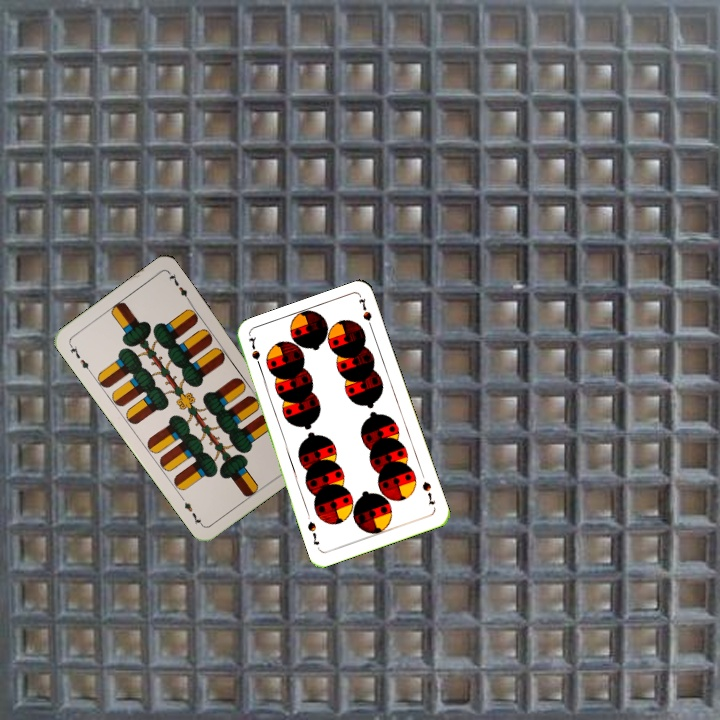E7: (65, 340, 94, 375)
S7: (244, 333, 264, 373), (418, 477, 438, 507)
